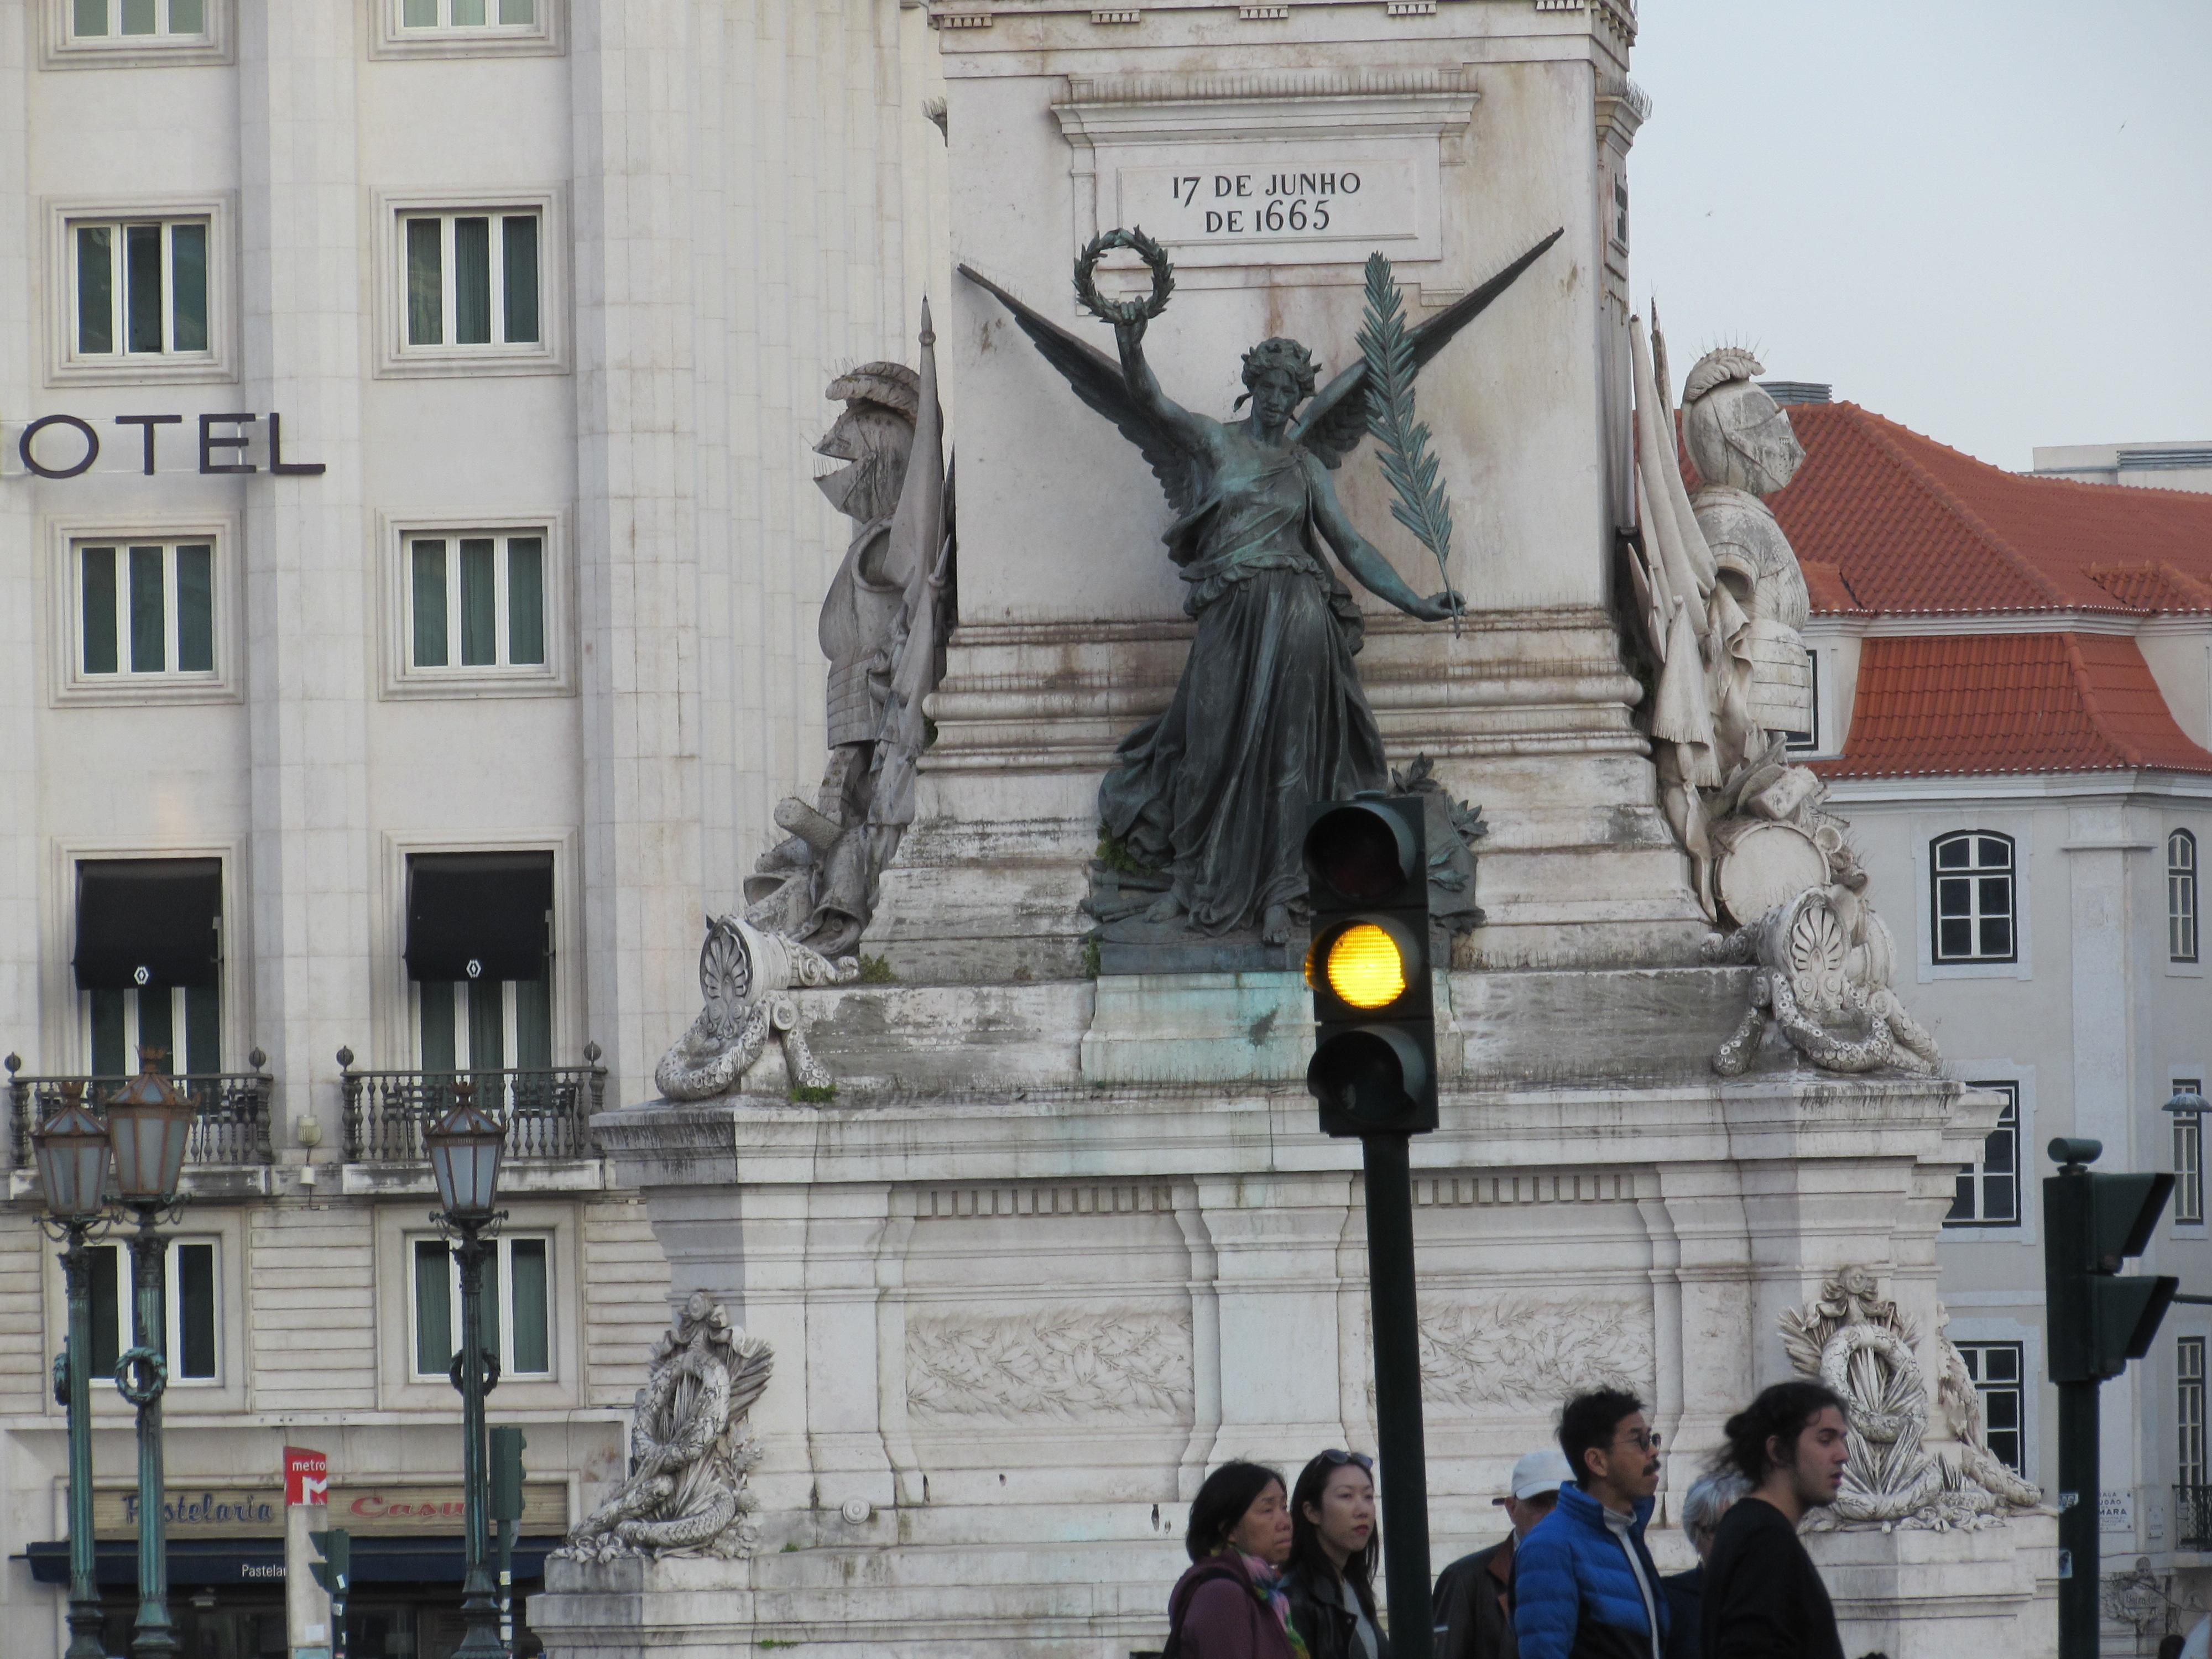yellow_light: (1305, 795, 1439, 1138)
